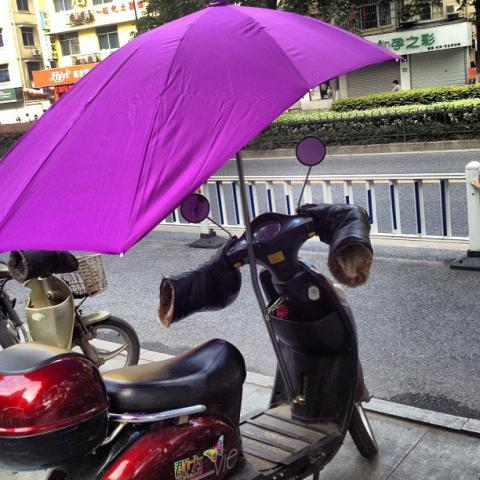motorcycle: (0, 136, 381, 475), (0, 255, 142, 374)
